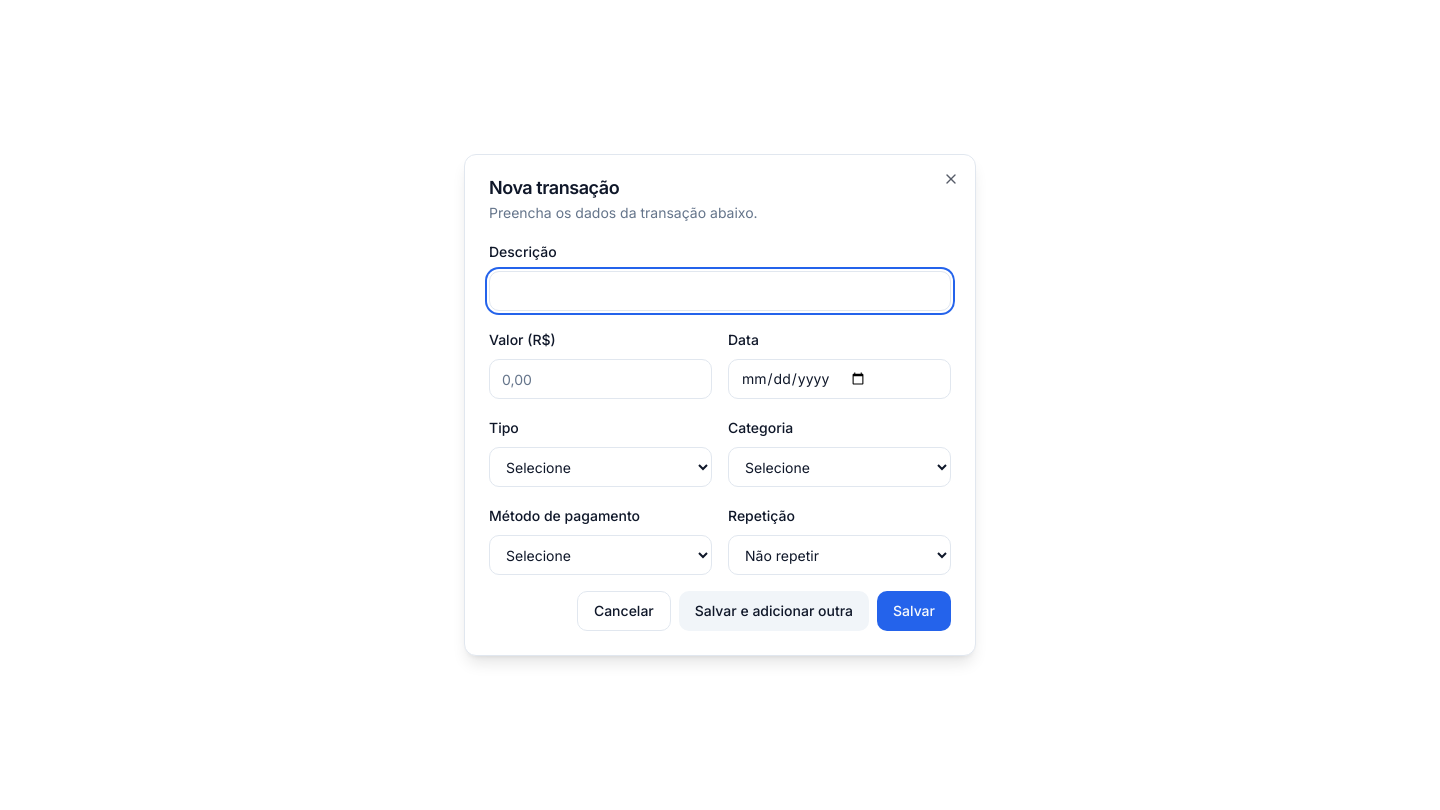
Test: TransactionForm (AC-008) › valida os campos obrigatórios
Click the button "Salvar": click(914, 611) [877,591,951,631]
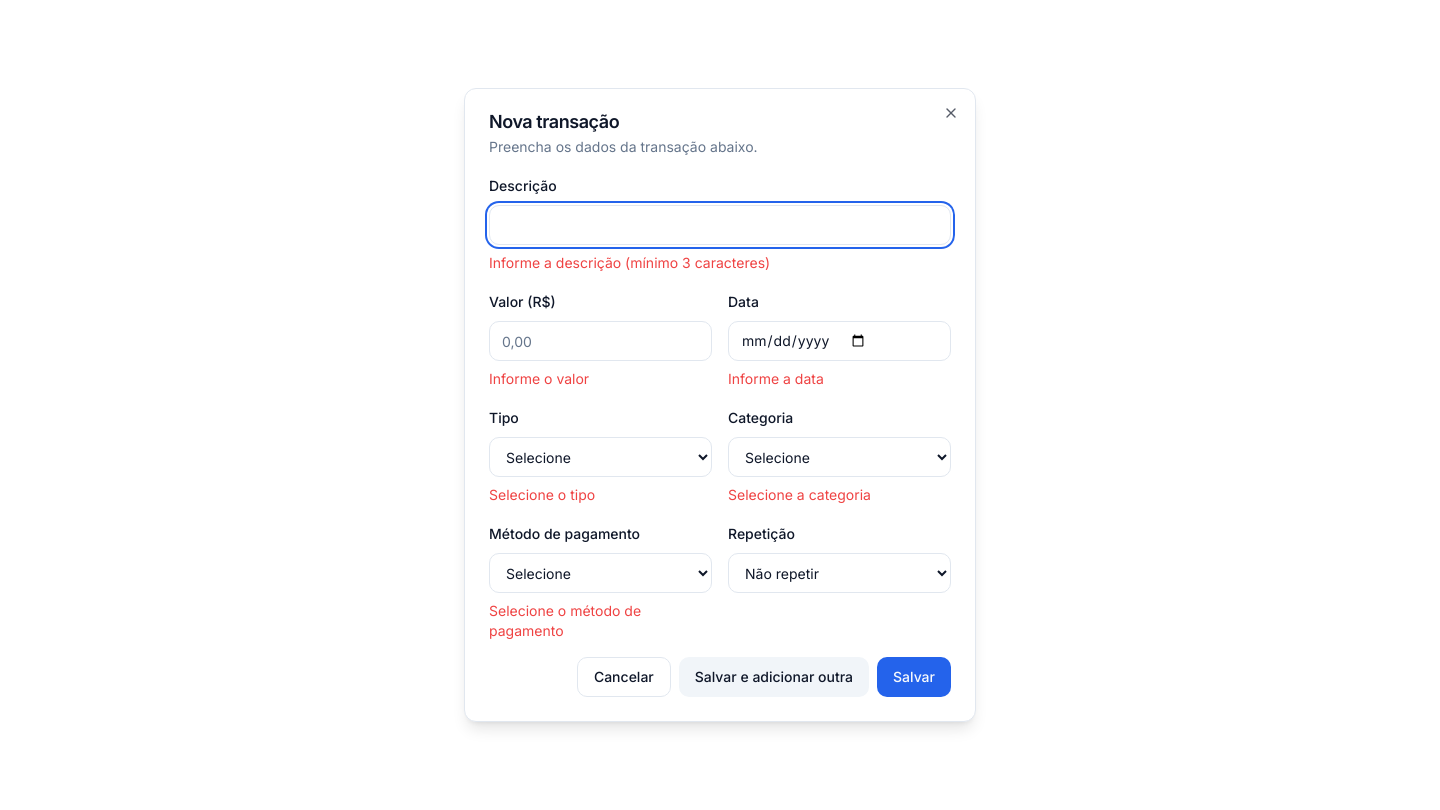
Check: the text "Informe a descrição (mínimo 3 caracteres)" is shown, box [489,254,770,271]
Check: the text "Informe o valor" is shown, box [489,370,589,387]
Check: the text "Selecione o tipo" is shown, box [489,486,595,503]
